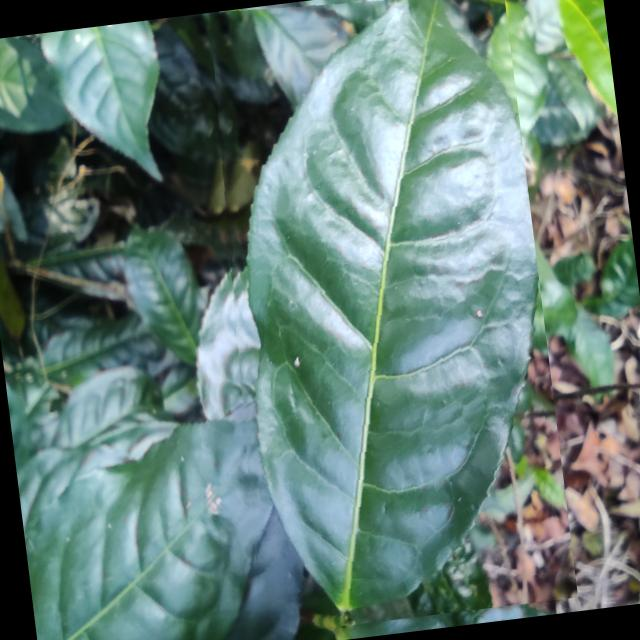Category D(7+ days, Not for Tea): (185, 0, 577, 634)
